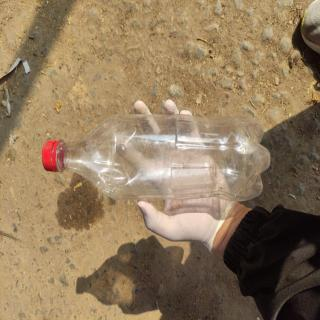Plastic-bottle: (40, 110, 274, 208)
